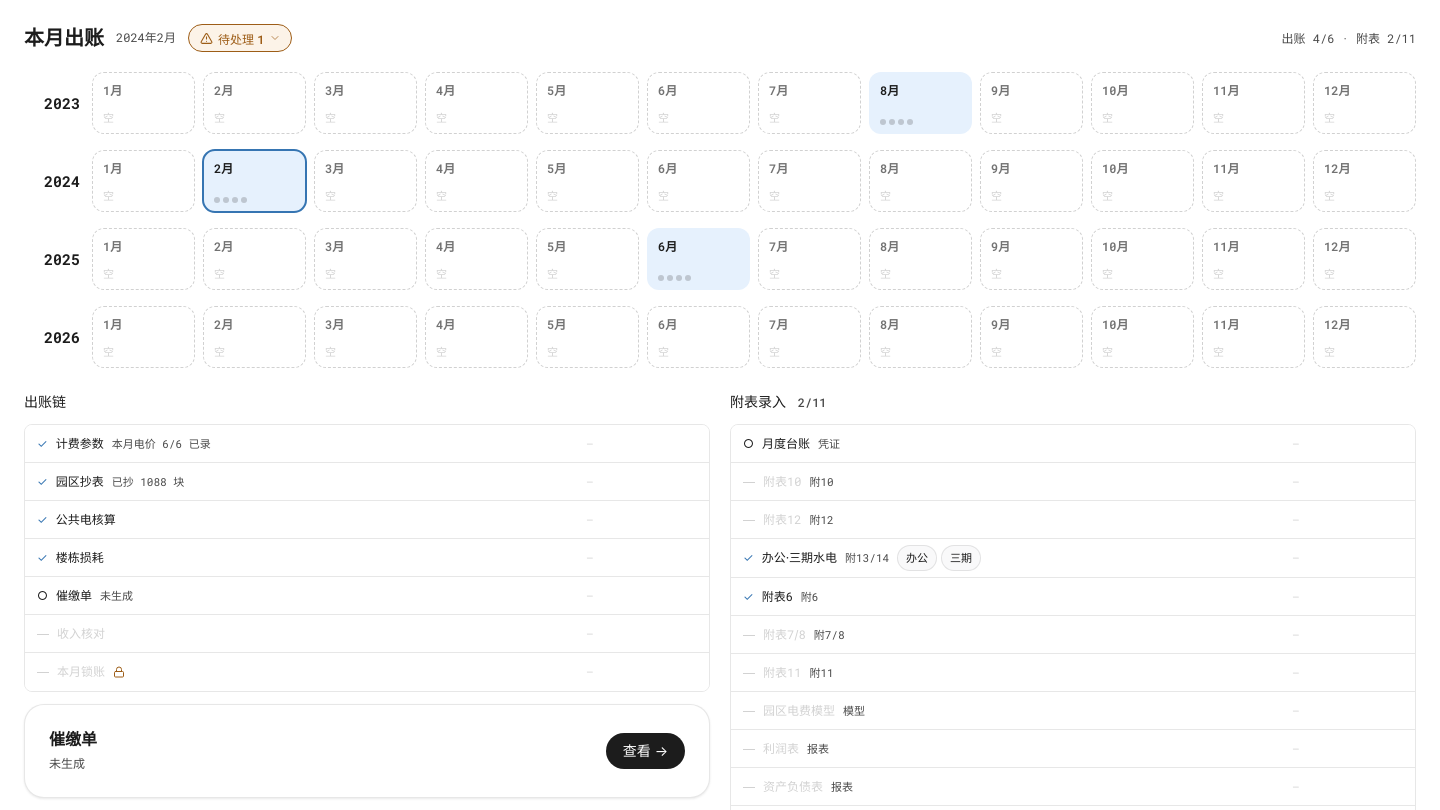
Test: 数据中心首页 · 两段式工作台 › 零写权限:主 CTA 改「查看」,待处理面板里的写操作按钮隐藏
What coordinates should you click on to do the following:
click the button with class "fac"
I would click on:
 (240, 38)
Its box is x1=188 y1=24 x2=292 y2=52.
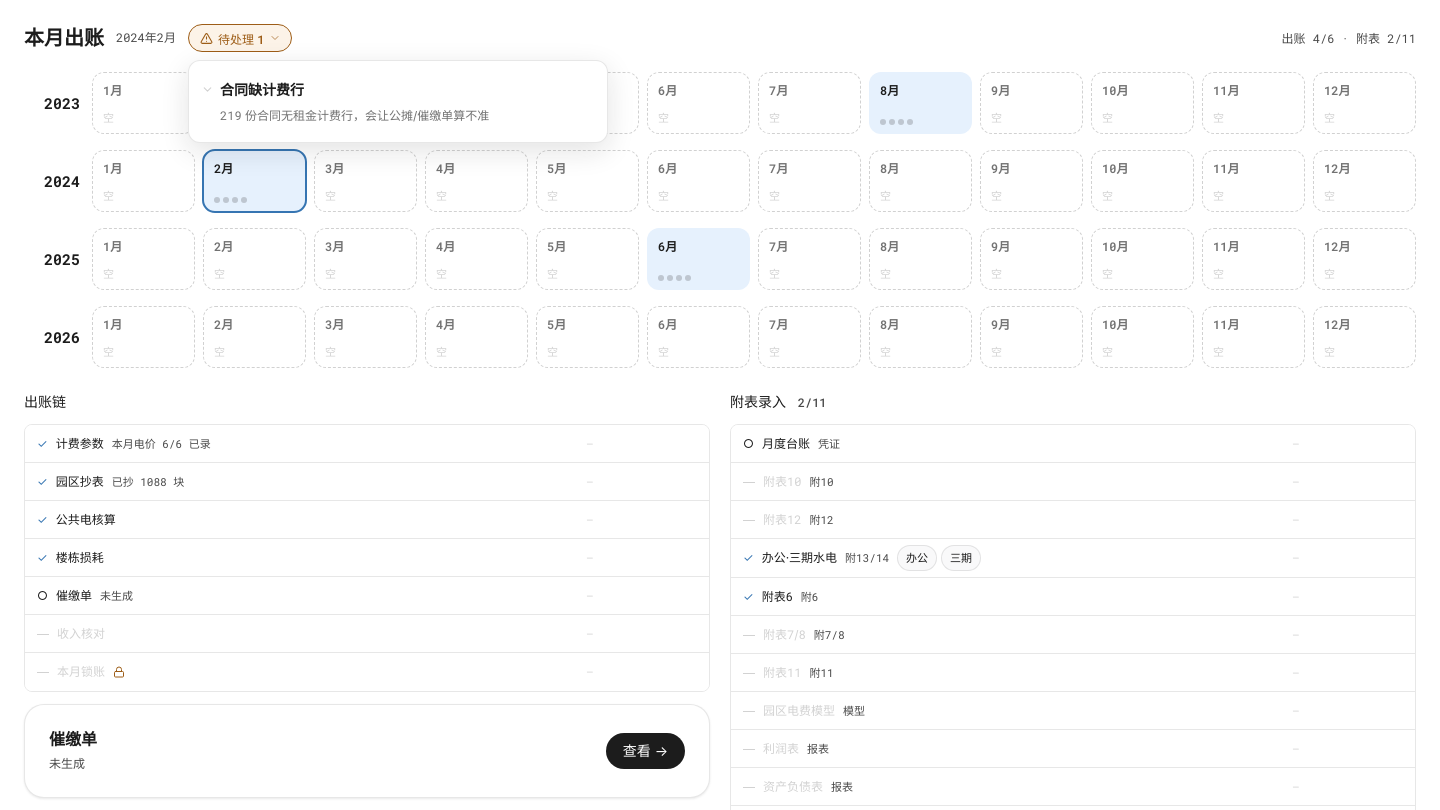
Check: the element with class "fap" shows "219 份合同无租金计费行", box x1=220 y1=108 x2=489 y2=123
